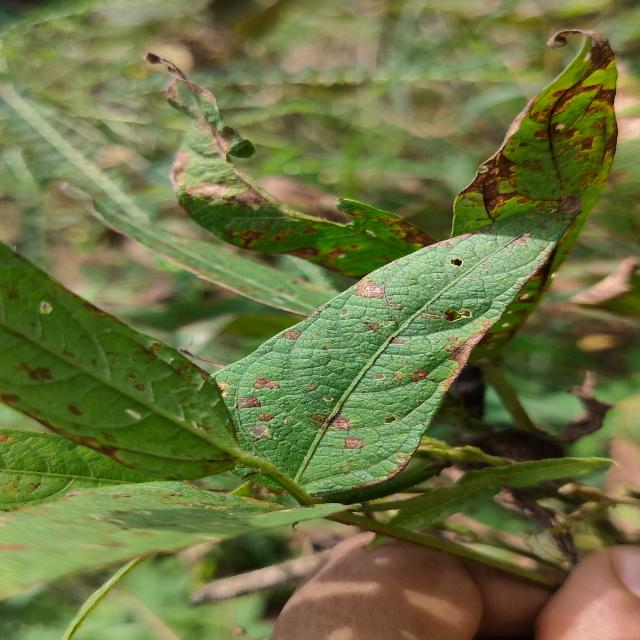Black gram_leaf spot: (168, 187, 586, 510), (134, 48, 458, 380), (442, 24, 628, 388), (0, 240, 254, 483)
